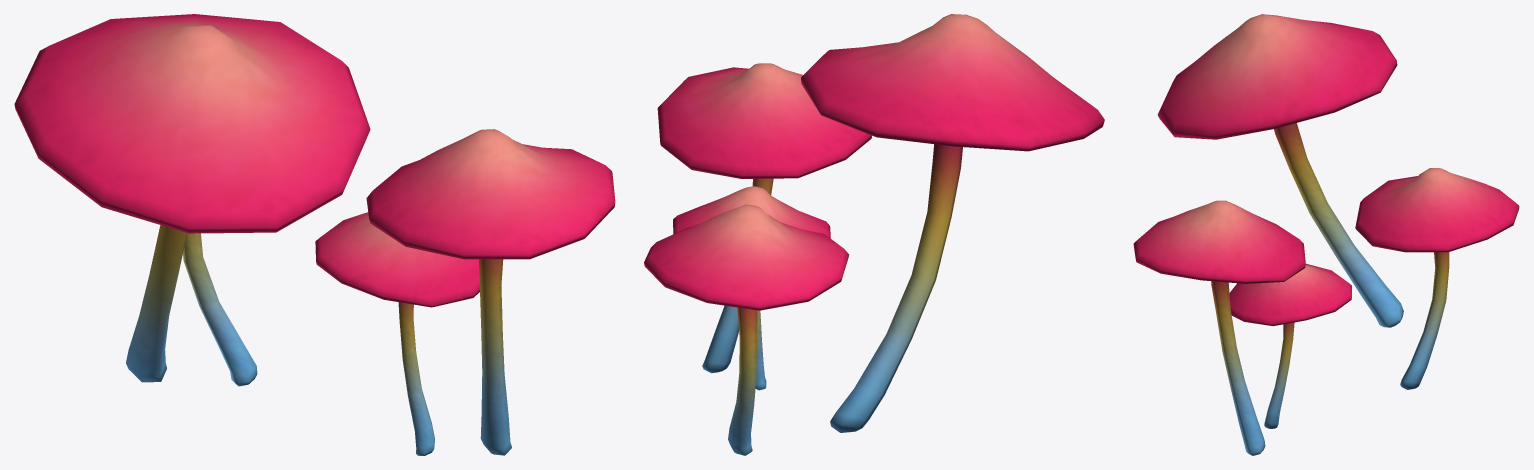
Rendered from Cartoon Seaweed_13-2-31.fbx.
3 views of the same model, side by side, from view 1: azimuth 30°, elevation 25°; view 2: azimuth 150°, elevation 25°; view 3: azimuth 270°, elevation 25° (orthographic). The views are drawn at different scales.
Visible parts, largest first — view 1: Cartoon Seaweed_13.2.31; view 2: Cartoon Seaweed_13.2.31; view 3: Cartoon Seaweed_13.2.31.
Boxes of the visible parts, x1=… form: Cartoon Seaweed_13.2.31: x1=14, y1=14, x2=615, y2=455; Cartoon Seaweed_13.2.31: x1=644, y1=14, x2=1104, y2=455; Cartoon Seaweed_13.2.31: x1=1133, y1=14, x2=1519, y2=455.
Size of the model in its own units: 14.3 by 12.86 by 13.29.
Materials: 1 (1 with a texture image).
